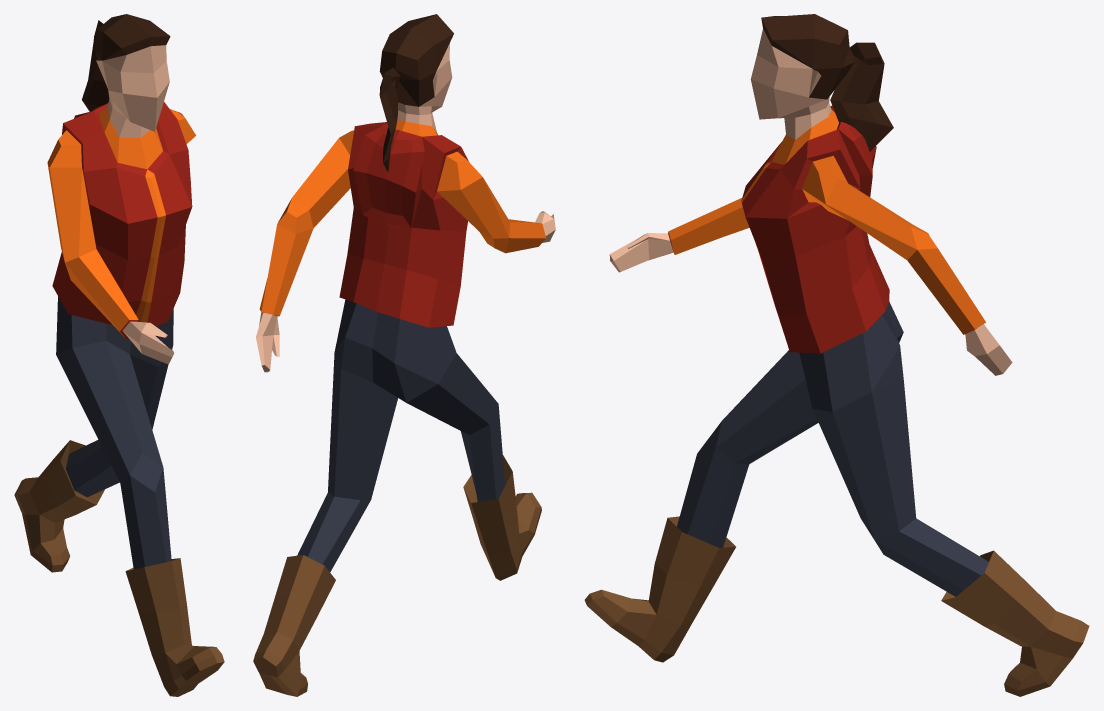
File: AutumnWomanA.002.glb
The picture shows the model from 3 angles, left to right: view 1: azimuth 30°, elevation 25°; view 2: azimuth 150°, elevation 25°; view 3: azimuth 270°, elevation 25°; orthographic projection. The views are drawn at different scales.
Visible parts, largest first — view 1: AutumnWomanA.002; view 2: AutumnWomanA.002; view 3: AutumnWomanA.002.
Part boxes in pixels (x1=…): AutumnWomanA.002: x1=14, y1=14, x2=224, y2=696; AutumnWomanA.002: x1=253, y1=14, x2=555, y2=696; AutumnWomanA.002: x1=584, y1=14, x2=1089, y2=696.
Size of the model in its own units: 0.4415 by 1.59 by 1.09.
Materials: 1 (1 with a texture image).
